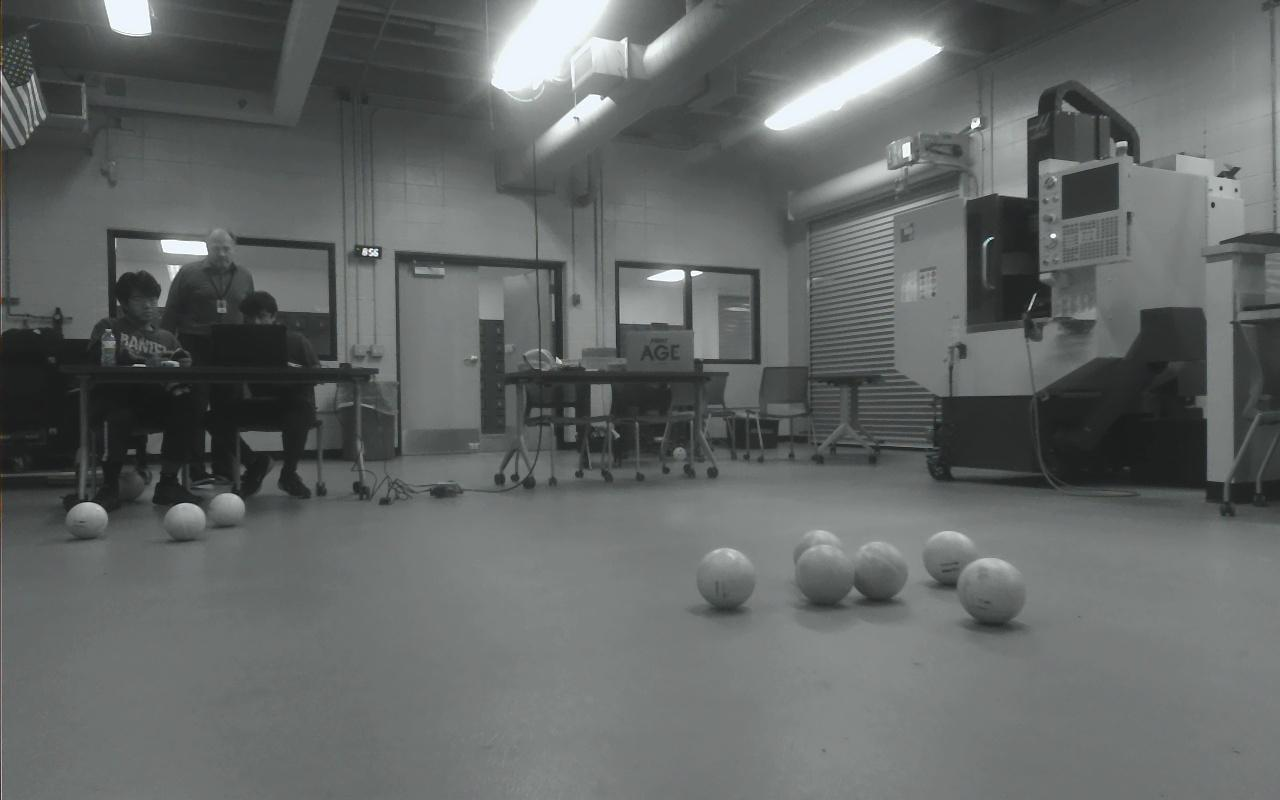Fuel: (957, 558, 1025, 624), (695, 548, 756, 609), (795, 544, 855, 605), (850, 541, 909, 600), (922, 531, 978, 586), (792, 529, 846, 570), (164, 502, 206, 541), (67, 501, 108, 539), (207, 493, 244, 528)
